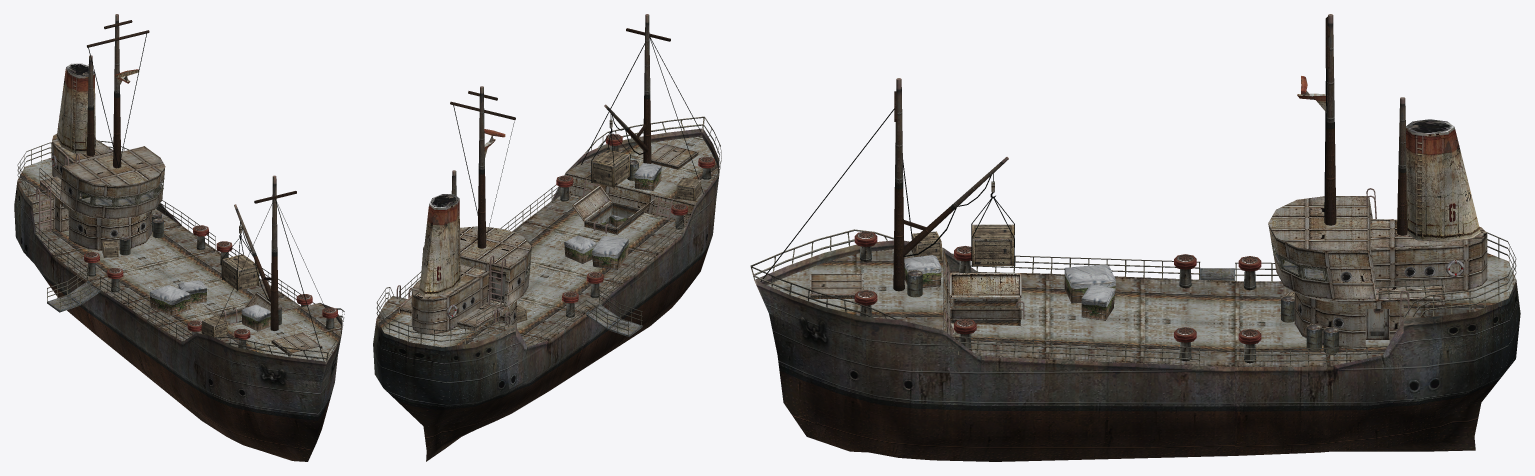
File: Ship01.glb
3 views of the same model, side by side, from view 1: azimuth 30°, elevation 25°; view 2: azimuth 150°, elevation 25°; view 3: azimuth 270°, elevation 25° (orthographic). The views are drawn at different scales.
Parts seen in each view (by area): view 1: _Ship01; view 2: _Ship01; view 3: _Ship01.
Part boxes in pixels (<box>): _Ship01: <box>14,14,344,461</box>; _Ship01: <box>373,14,721,461</box>; _Ship01: <box>750,14,1520,461</box>.
Bounding box in the file's own units: 17.44 × 31.28 × 50.03.
7 materials, 7 textured.
